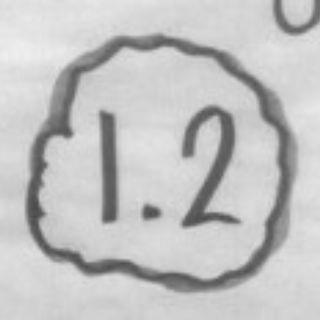.: (141, 200, 161, 224)
1: (96, 104, 125, 227)
2: (174, 103, 245, 230)
